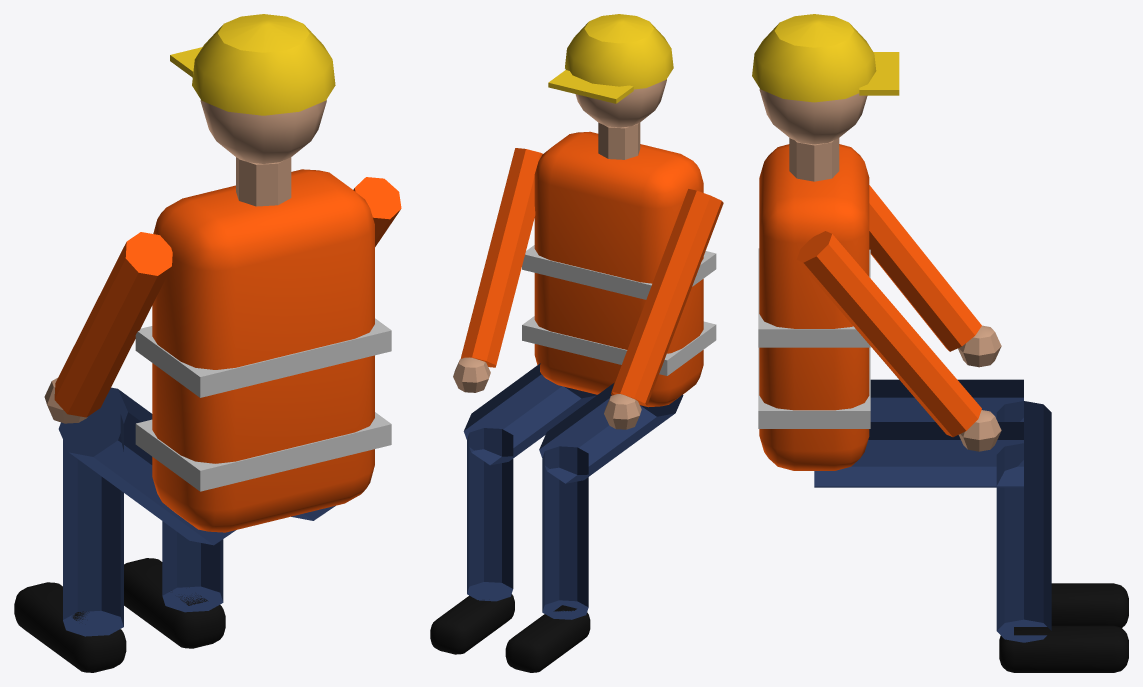
Rendered from people.crew.plant_operator.glb.
3 views of the same model, side by side, from view 1: azimuth 30°, elevation 25°; view 2: azimuth 150°, elevation 25°; view 3: azimuth 270°, elevation 25° (orthographic). The views are drawn at different scales.
Parts seen in each view (by area): view 1: main__hivis_orange, main__denim, main__steel_stainless, main__plastic_yellow, main__plastic_black, main__skin; view 2: main__hivis_orange, main__denim, main__plastic_yellow, main__plastic_black, main__skin, main__steel_stainless; view 3: main__hivis_orange, main__denim, main__plastic_yellow, main__plastic_black, main__skin, main__steel_stainless.
Part boxes in pixels (box(x1,y1,x2,y2)): main__hivis_orange: box(54, 169, 401, 532); main__denim: box(58, 387, 335, 636); main__steel_stainless: box(135, 318, 391, 491); main__plastic_yellow: box(170, 14, 335, 115); main__plastic_black: box(14, 558, 225, 672); main__skin: box(44, 100, 326, 423); main__hivis_orange: box(460, 131, 723, 407); main__denim: box(463, 363, 683, 619); main__plastic_yellow: box(548, 14, 673, 103); main__plastic_black: box(430, 594, 590, 672); main__skin: box(453, 79, 666, 429); main__steel_stainless: box(522, 245, 716, 375); main__hivis_orange: box(759, 144, 981, 470); main__denim: box(814, 379, 1051, 642); main__plastic_yellow: box(752, 14, 899, 102); main__plastic_black: box(999, 583, 1128, 672); main__skin: box(759, 89, 1001, 451); main__steel_stainless: box(758, 248, 870, 428).
Bounding box in the file's own units: 0.5496 × 1.38 × 0.755.
